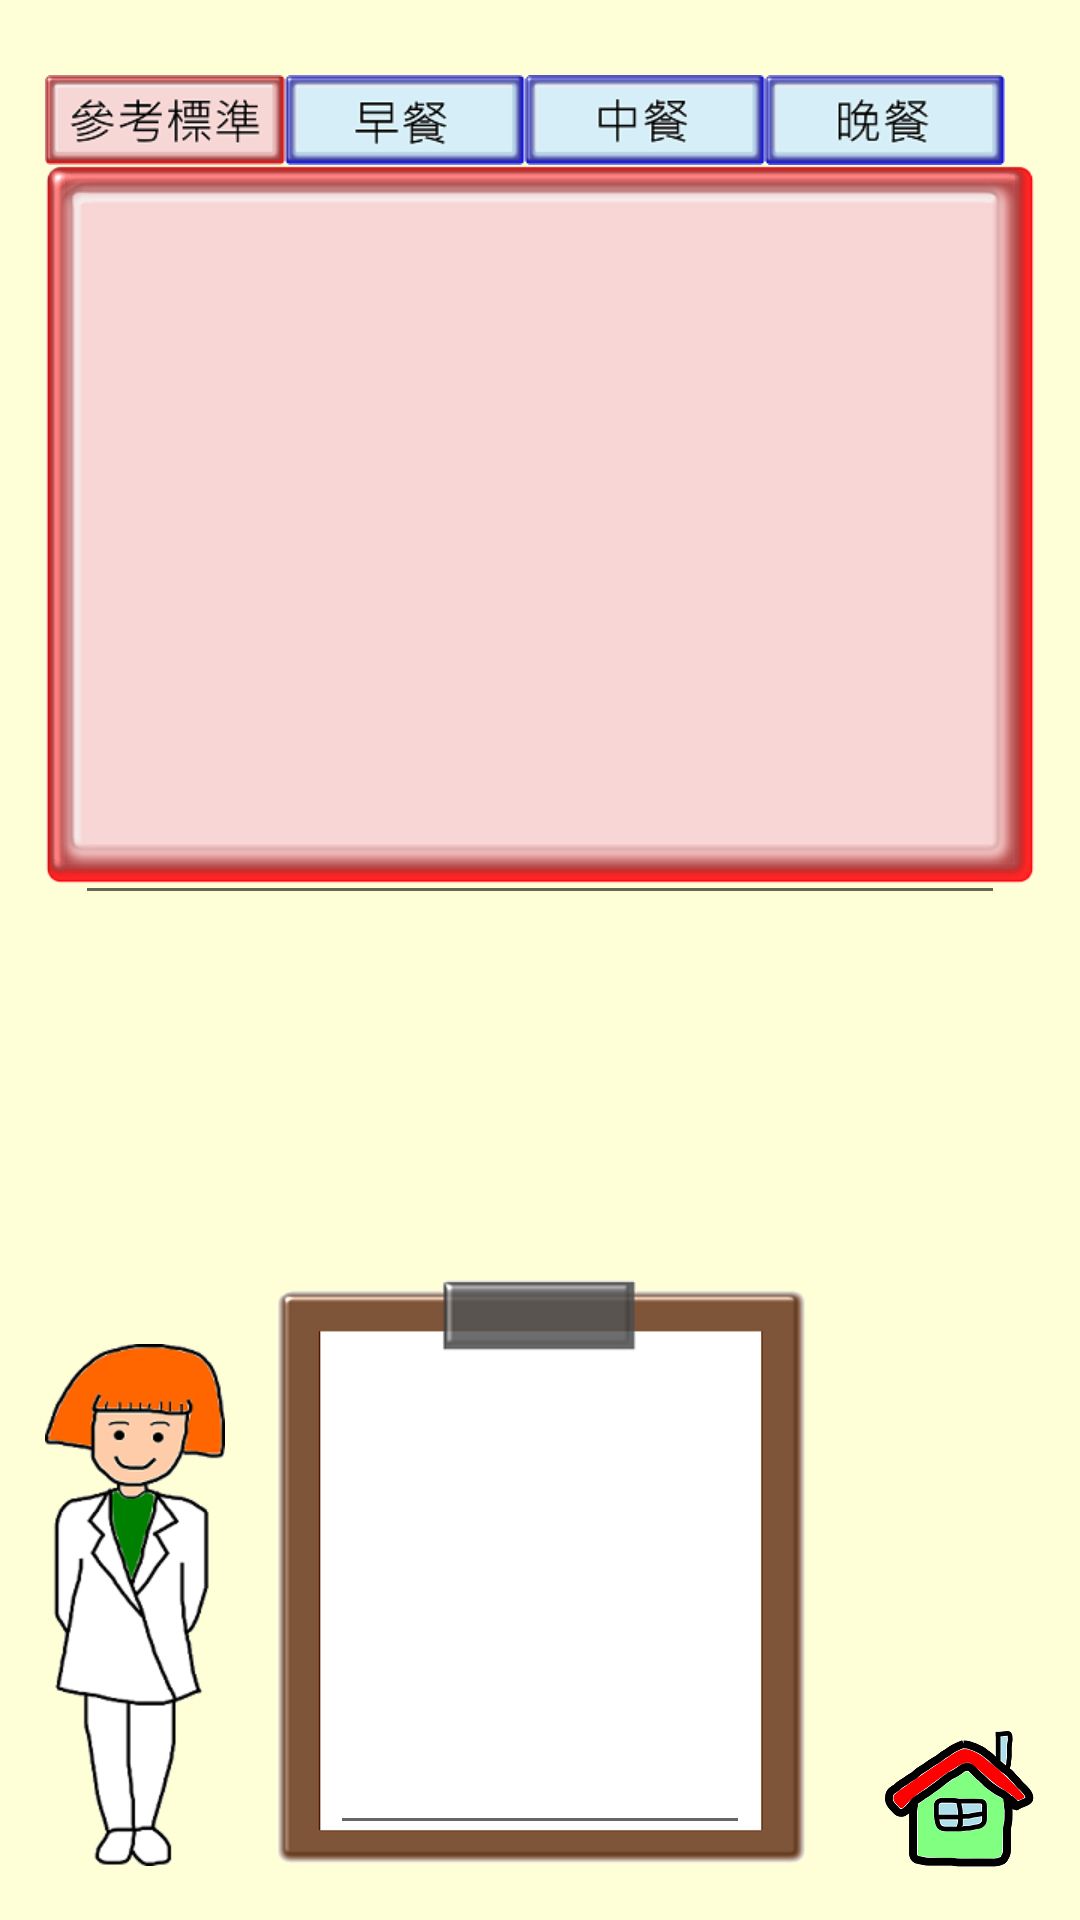

Screen size 1080*1920. Icon name, then its box in pixels as (x1, y1, x2, y2):
home: (885, 1731, 1034, 1867)
